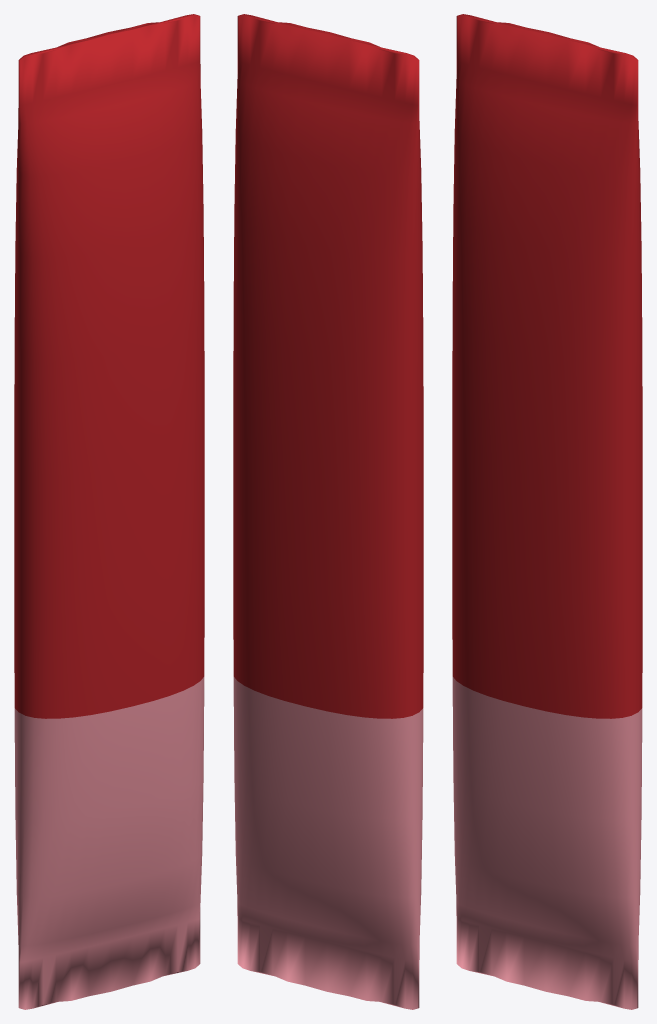
3 views of the same model, side by side, from view 1: azimuth 30°, elevation 25°; view 2: azimuth 150°, elevation 25°; view 3: azimuth 330°, elevation 25° (orthographic).
Visible parts, largest first — view 1: item; view 2: item; view 3: item.
Boxes of the visible parts, x1=… form: item: x1=14, y1=14, x2=204, y2=1009; item: x1=233, y1=14, x2=423, y2=1009; item: x1=452, y1=14, x2=642, y2=1009.
Size of the model in its own units: 0.0227 by 0.1141 by 0.0102.
